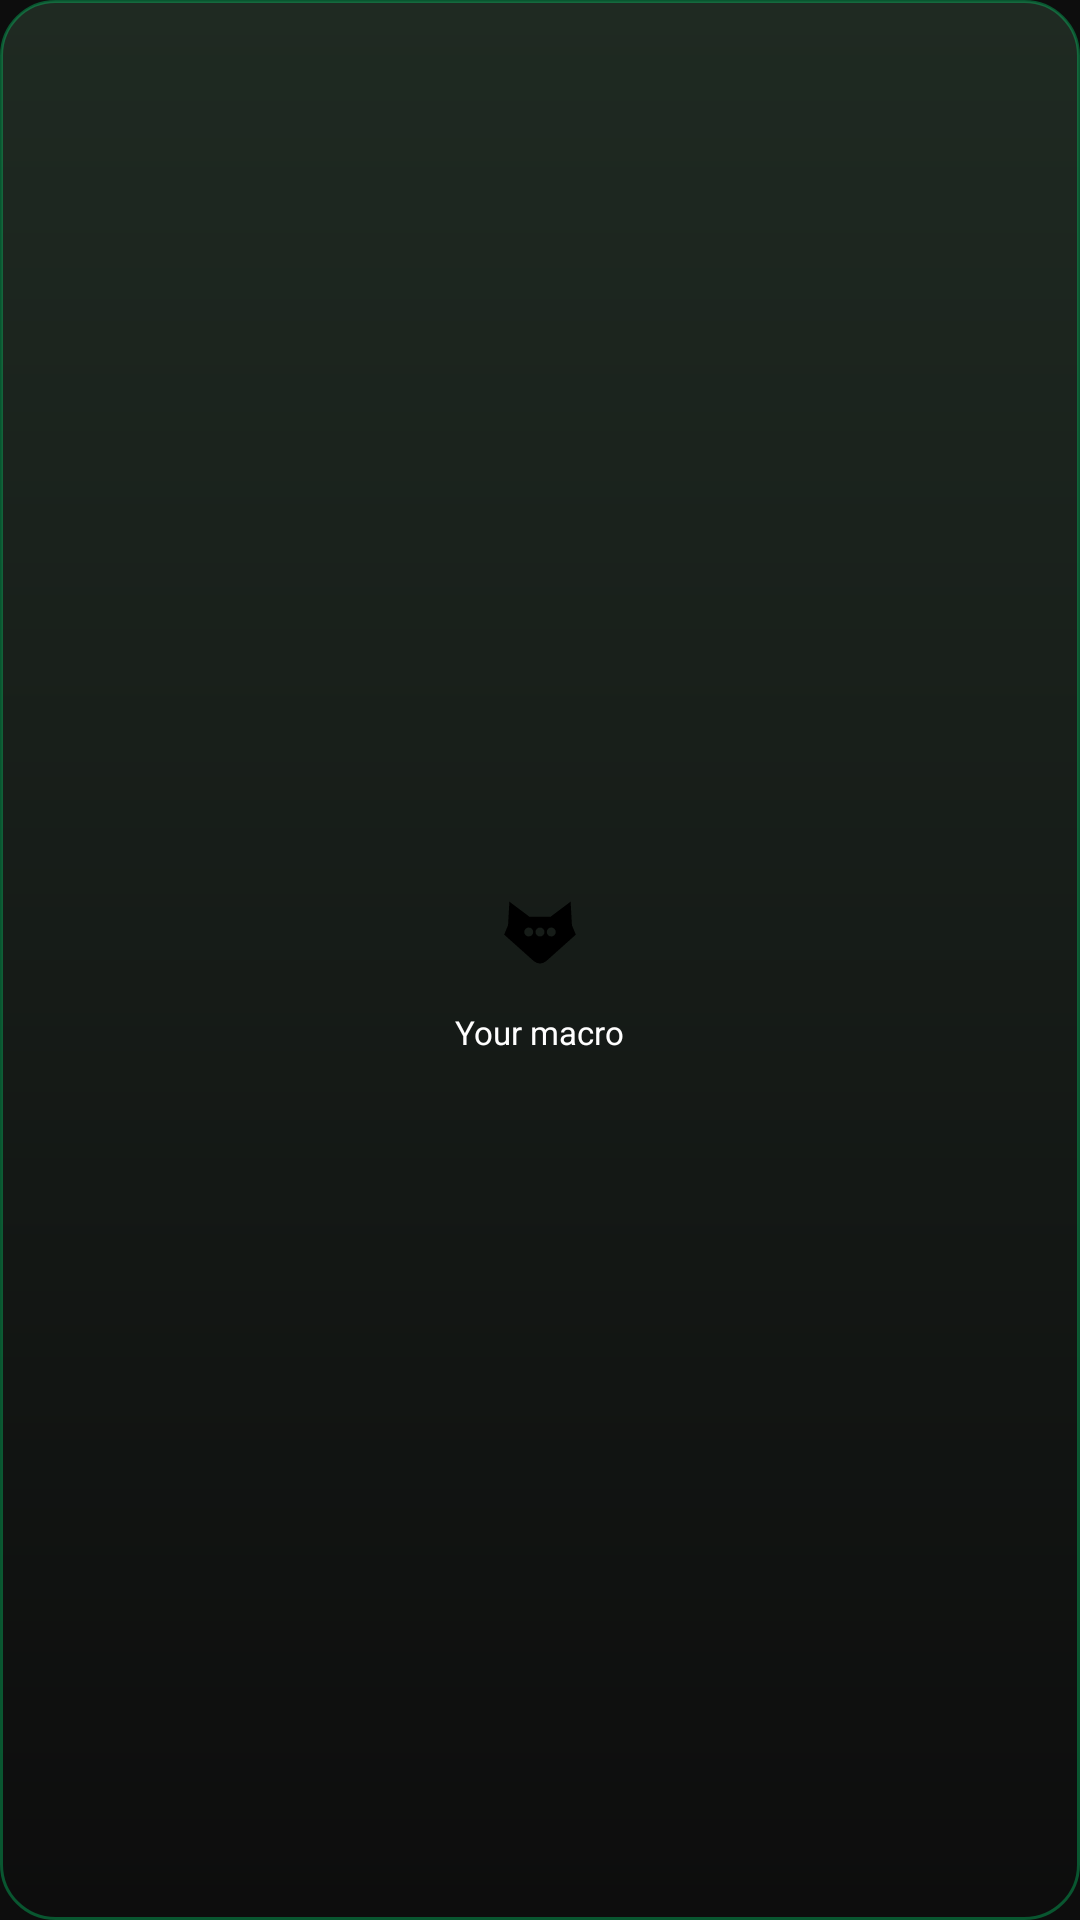

Where icons sit on this 1080w x 1920h app screen, as [x1,y1,x2,y2]:
textfox: [505,903,575,963]
